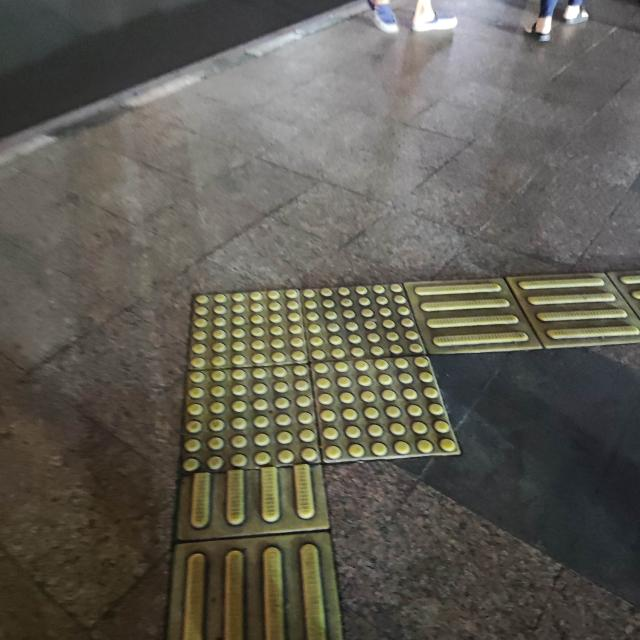kanan: (101, 226, 640, 530)
